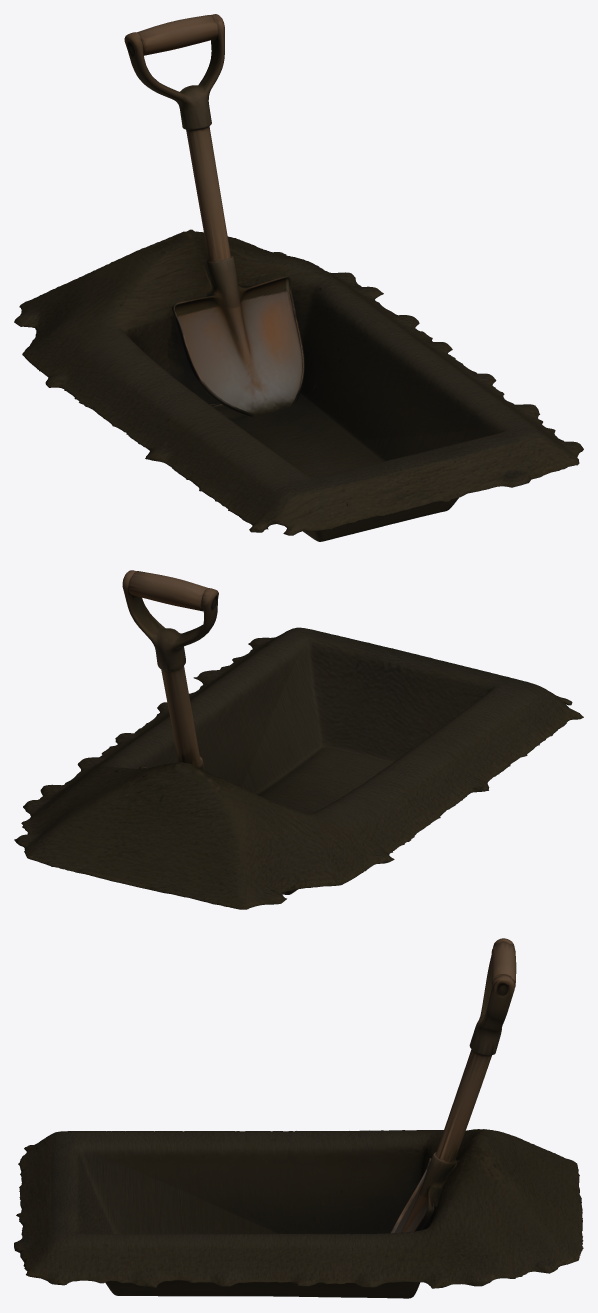
Rendered from Opengrave.glb.
The picture shows the model from 3 angles, top to bottom: view 1: azimuth 30°, elevation 25°; view 2: azimuth 150°, elevation 25°; view 3: azimuth 270°, elevation 25°; orthographic projection. The views are drawn at different scales.
Parts seen in each view (by area): view 1: node_0; view 2: node_0; view 3: node_0.
Boxes of the visible parts, x1,y1,x2,y2 form: node_0: (14,14,583,541); node_0: (14,570,583,909); node_0: (14,938,583,1298).
Bounding box in the file's own units: 0.6604 × 0.6301 × 1.03.
Materials: 1 (1 with a texture image).
